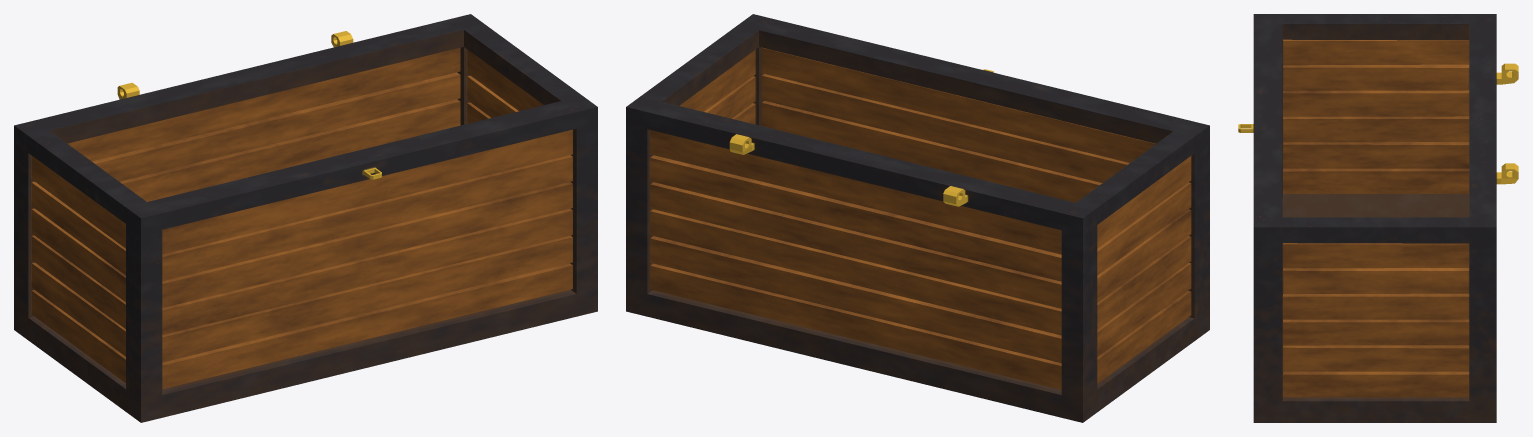
File: Chest UV.fbx
3 renders of one model, left to right at view 1: azimuth 30°, elevation 25°; view 2: azimuth 150°, elevation 25°; view 3: azimuth 270°, elevation 25°, orthographic. The views are drawn at different scales.
Parts seen in each view (by area): view 1: Chest Low Poly.002; view 2: Chest Low Poly.002; view 3: Chest Low Poly.002.
Boxes of the visible parts, x1,y1,x2,y2 form: Chest Low Poly.002: [14, 14, 597, 422]; Chest Low Poly.002: [626, 14, 1209, 422]; Chest Low Poly.002: [1238, 14, 1518, 422].
Bounding box in the file's own units: 167 × 72.91 × 92.65.
